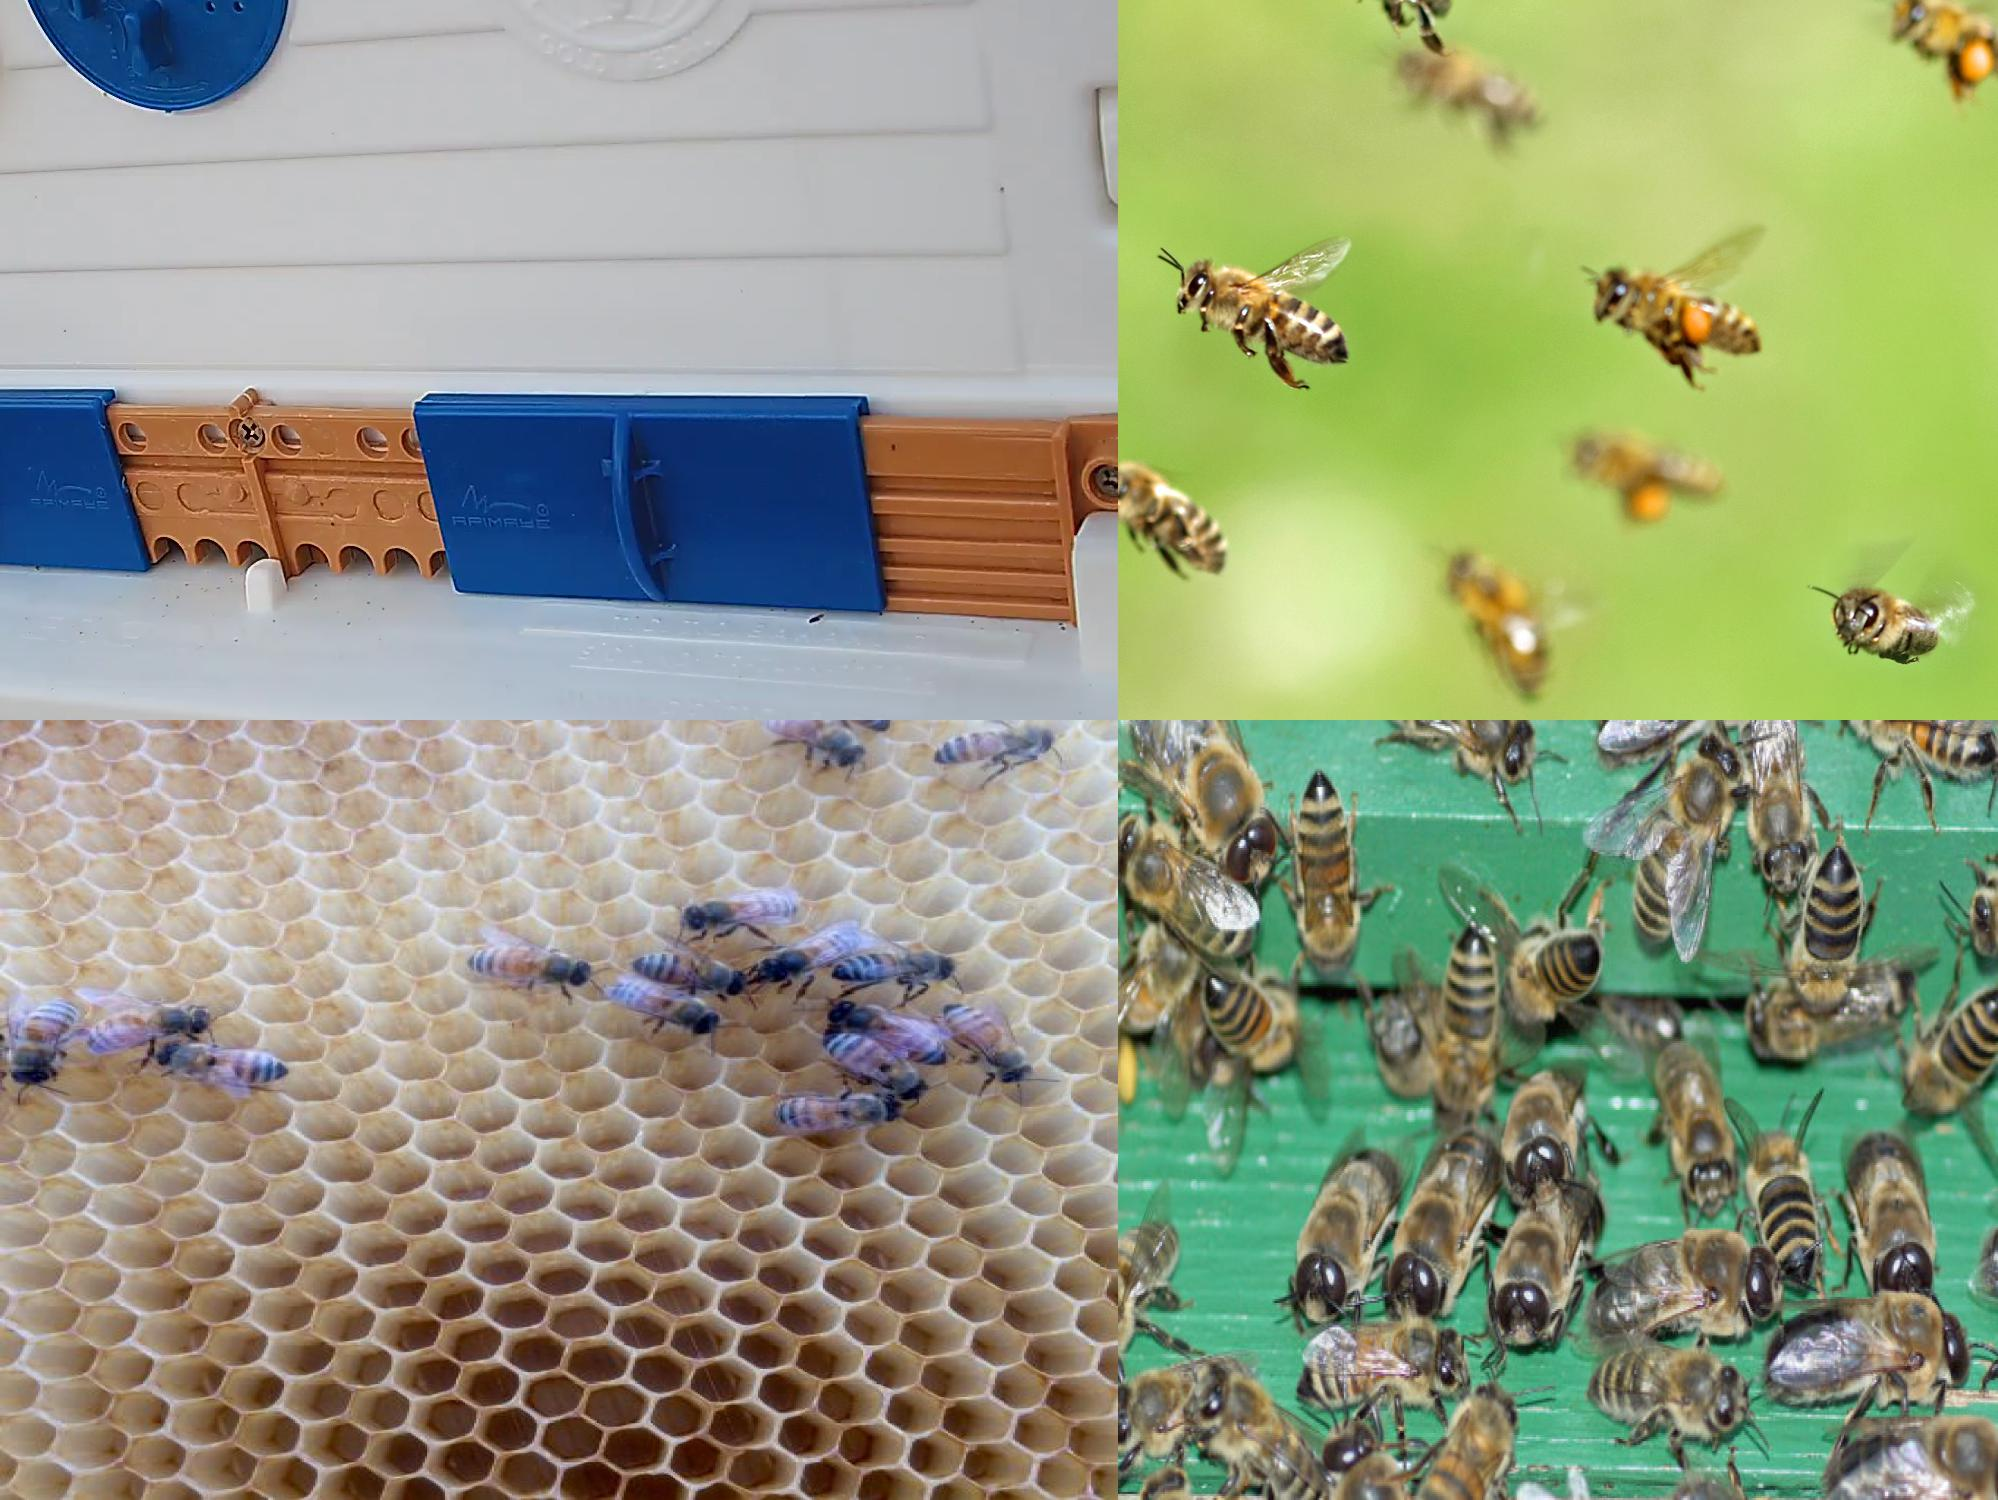bee: (1632, 737, 1740, 942), (1179, 260, 1354, 364), (1190, 1371, 1327, 1500), (1119, 821, 1254, 950), (1749, 963, 1913, 1054), (1588, 1347, 1751, 1434), (1825, 1420, 1996, 1498), (1119, 1357, 1254, 1454), (1298, 1330, 1462, 1407), (1295, 770, 1360, 966), (1119, 460, 1226, 575), (1395, 54, 1547, 131), (1905, 989, 1998, 1116), (1437, 926, 1498, 1114), (1744, 720, 1810, 889), (1792, 848, 1862, 1004), (1747, 1131, 1818, 1287), (1664, 1049, 1733, 1207), (1417, 1387, 1513, 1500), (1502, 930, 1601, 1023), (1202, 969, 1294, 1065), (1119, 923, 1190, 1034), (1401, 720, 1539, 775), (1119, 1223, 1179, 1350), (1831, 585, 1935, 657), (829, 1002, 942, 1065), (1847, 720, 1996, 767), (945, 1002, 1031, 1081), (826, 1034, 931, 1097), (1371, 999, 1437, 1090), (88, 1007, 210, 1053), (1169, 994, 1229, 1081), (466, 945, 592, 986), (607, 985, 715, 1032), (763, 930, 867, 978), (156, 1046, 290, 1084), (14, 1002, 74, 1086), (1598, 977, 1678, 1037), (635, 956, 752, 997), (764, 720, 862, 769), (777, 1095, 900, 1133), (687, 892, 800, 931), (933, 726, 1051, 764), (837, 950, 958, 983), (1606, 720, 1697, 756), (1966, 865, 1998, 956), (1139, 1465, 1190, 1498)
drone: (1131, 720, 1278, 886), (1587, 1229, 1779, 1336), (1768, 1295, 1970, 1396), (1390, 1134, 1498, 1314), (1492, 1183, 1601, 1346), (1298, 1150, 1399, 1322), (1850, 1131, 1933, 1297), (1502, 1070, 1574, 1197), (1324, 1418, 1415, 1500)
pollenbee: (1445, 548, 1550, 700), (1593, 268, 1760, 361), (1568, 433, 1722, 522), (1889, 0, 1996, 84)
